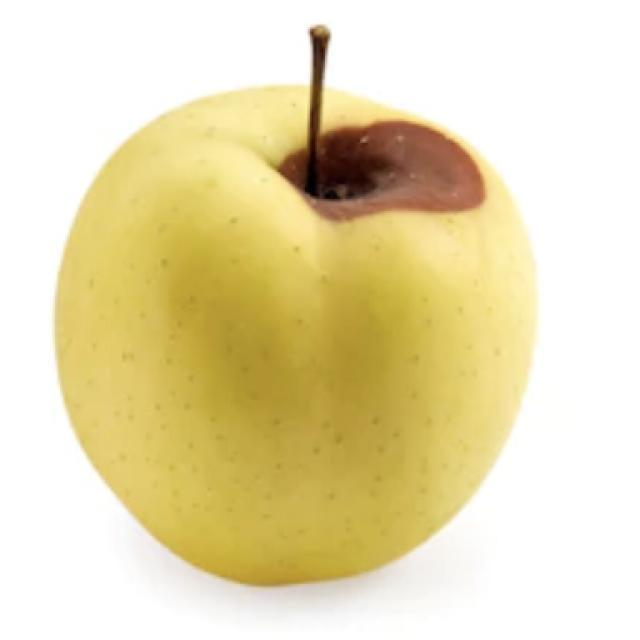Rotten: (98, 80, 515, 587)
